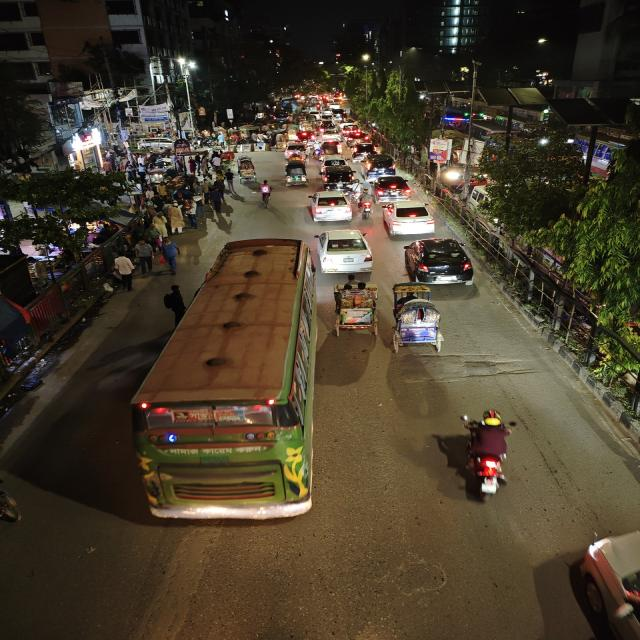bicycle: (257, 179, 275, 207)
bus: (127, 236, 320, 524)
car: (403, 235, 477, 287), (312, 228, 376, 274), (379, 199, 438, 237), (304, 190, 354, 224), (370, 175, 416, 201), (364, 154, 399, 176), (323, 168, 358, 190), (352, 142, 380, 158), (321, 156, 349, 172), (339, 121, 362, 135), (347, 132, 372, 144), (319, 128, 340, 142)
cng: (282, 161, 310, 187)
motorcycle: (452, 407, 529, 506), (358, 192, 373, 220)
pedestrian: (159, 284, 186, 322), (112, 252, 137, 291), (204, 181, 230, 217), (159, 236, 182, 276), (133, 238, 156, 276), (164, 203, 185, 236), (182, 198, 200, 226), (223, 167, 236, 189)
rickshaw: (388, 287, 456, 357), (328, 278, 381, 336), (281, 160, 309, 188), (235, 157, 258, 181), (275, 132, 291, 148)
